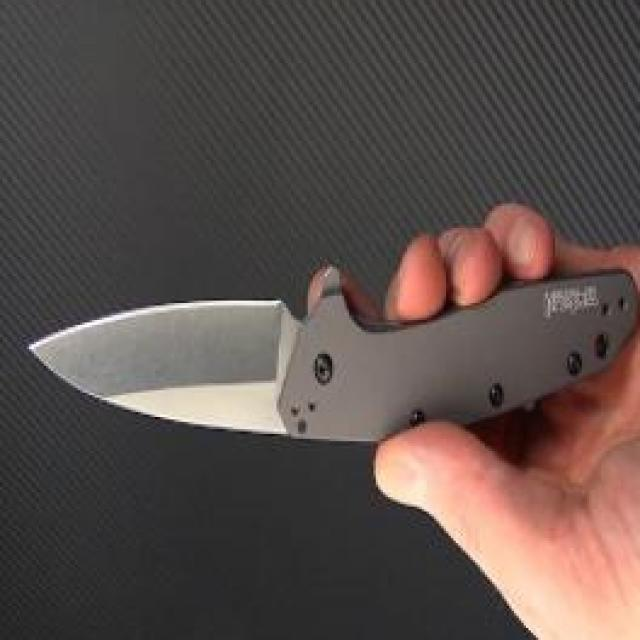knife: (14, 197, 640, 466)
